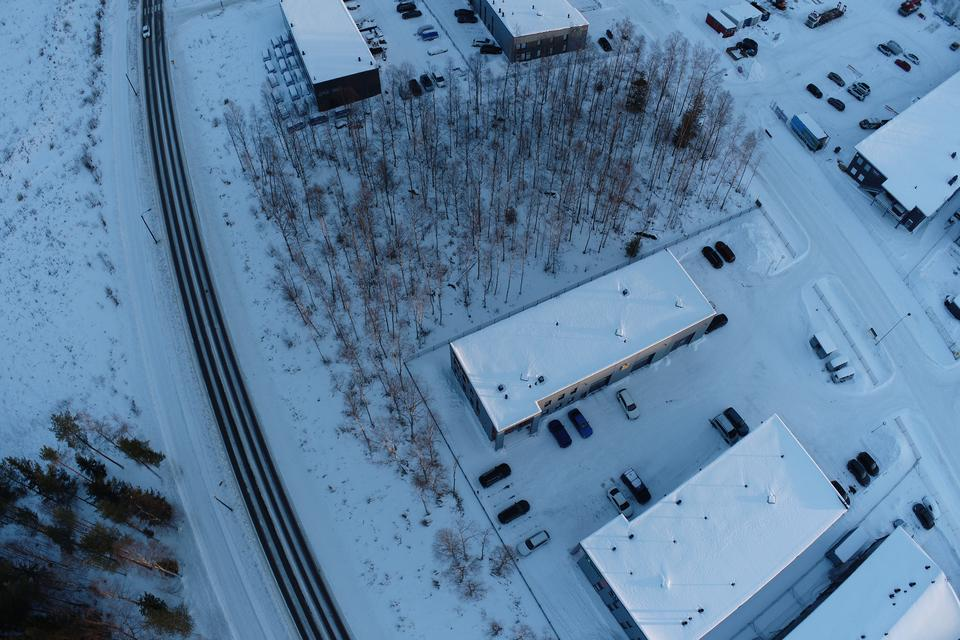intersection: (107, 0, 219, 61)
